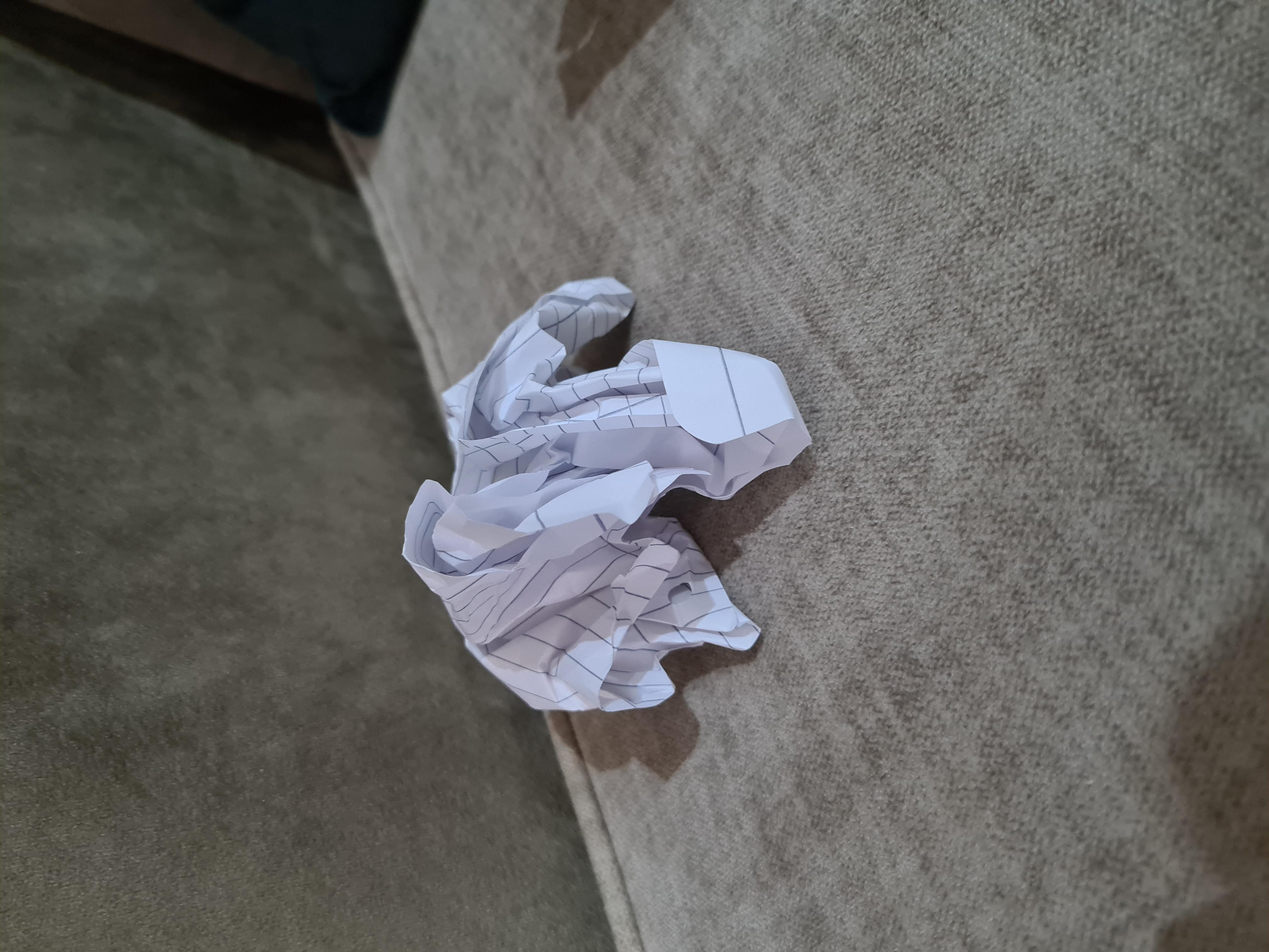paper: (311, 298, 896, 605)
